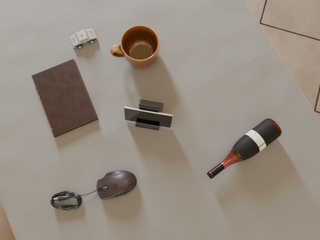book: (32, 59, 98, 137)
bottle: (207, 118, 282, 179)
cup: (110, 25, 159, 67)
mouse: (96, 171, 137, 200)
phone: (124, 107, 173, 127)
toy_car: (70, 29, 97, 48)
